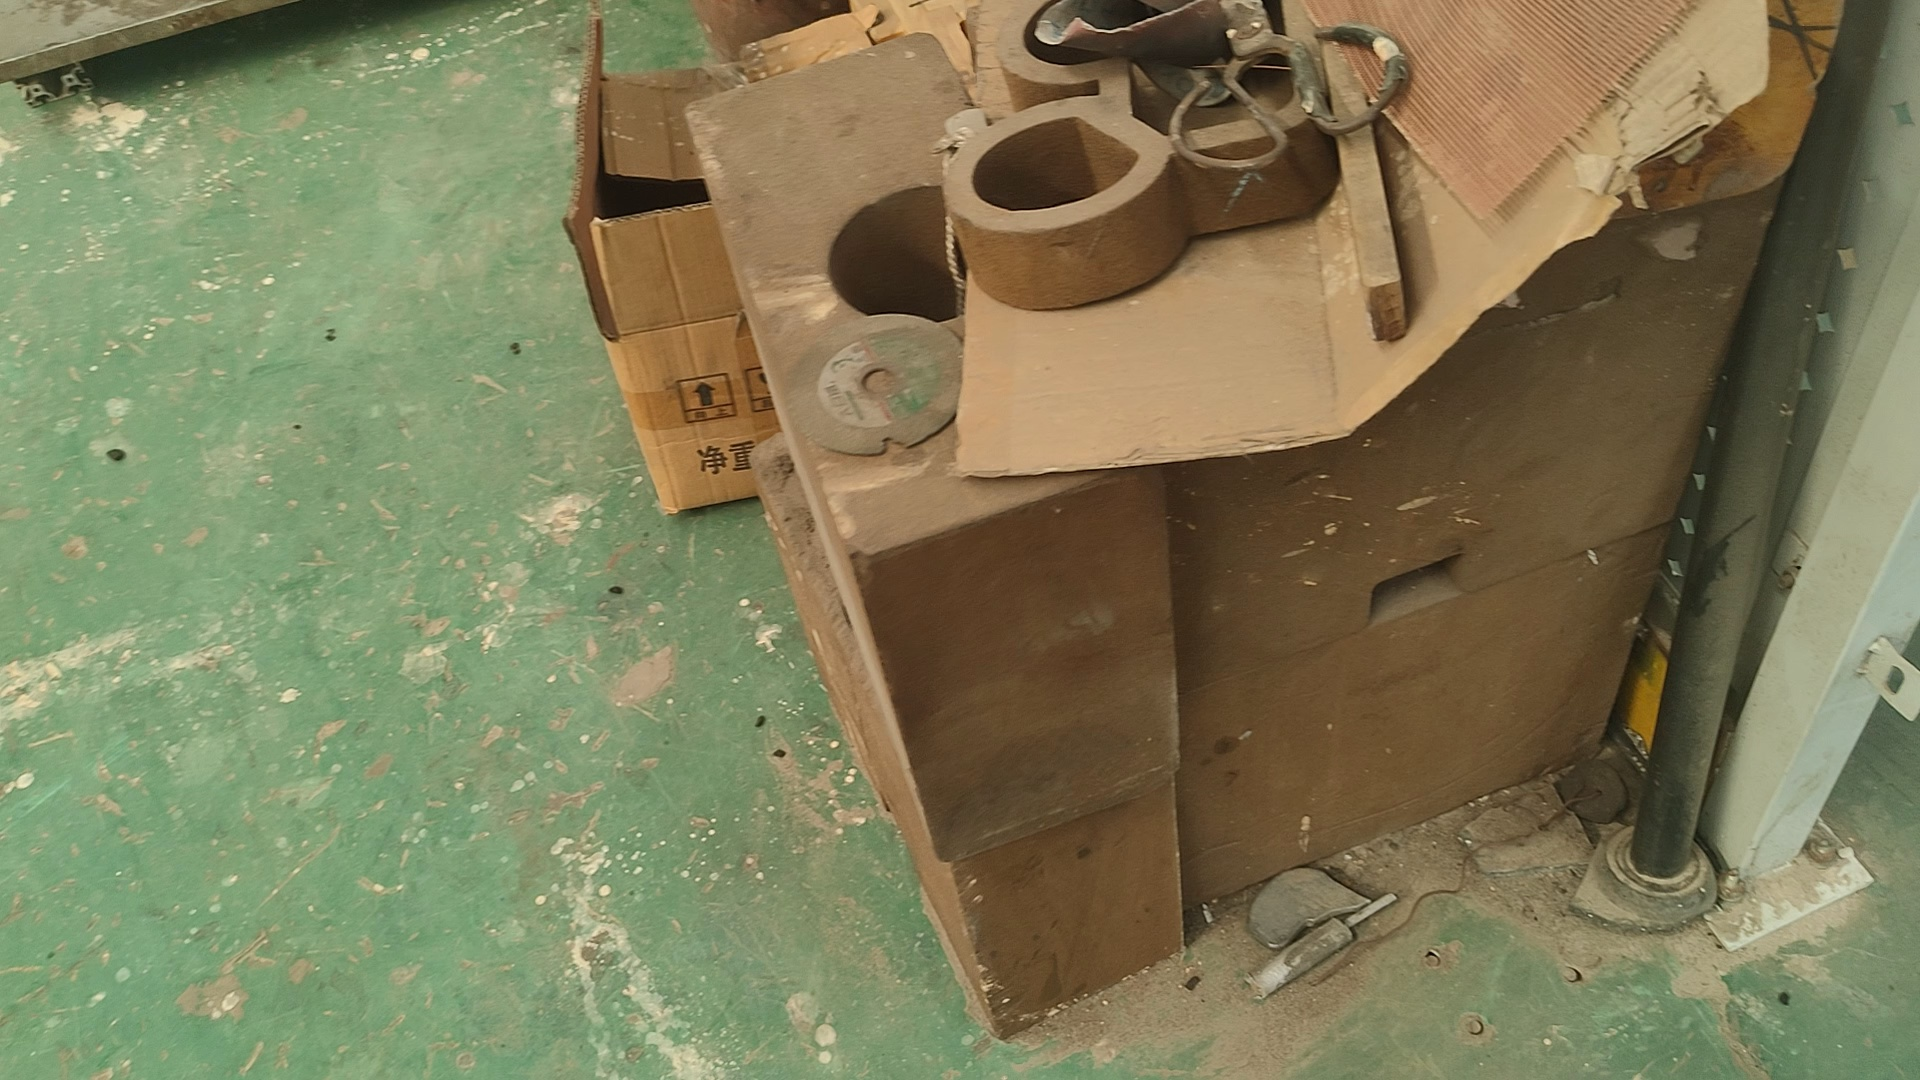pouring hole: (828, 183, 981, 323)
